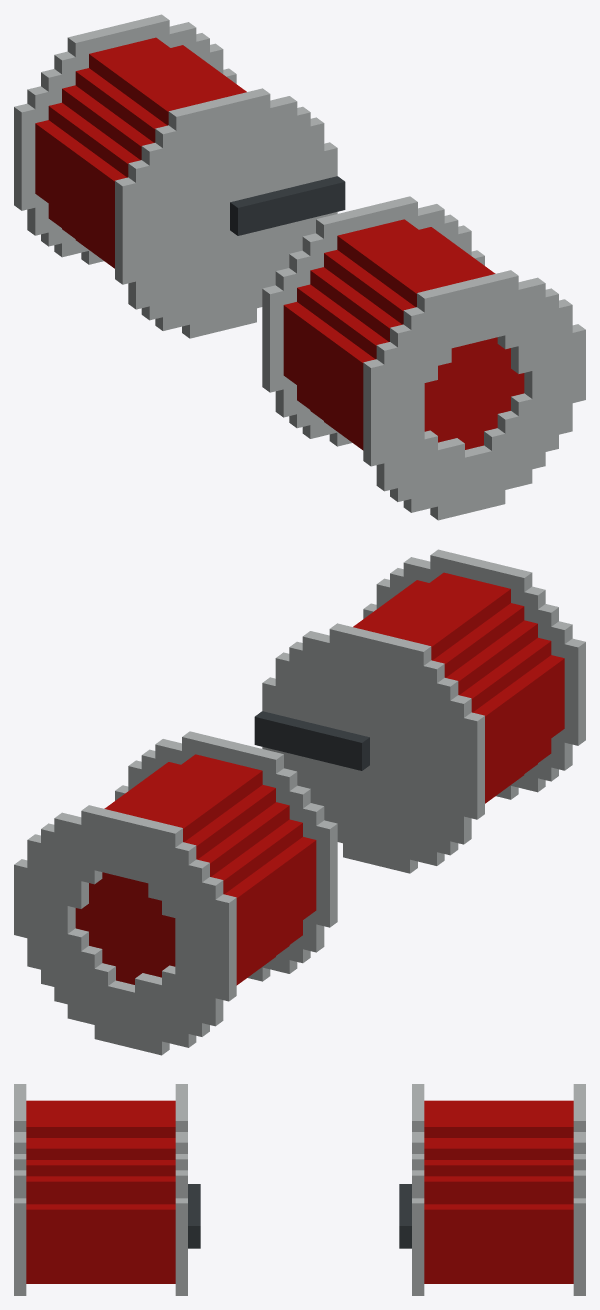
Rendered from fire_engine_hose_reel.glb.
3 renders of one model, top to bottom at view 1: azimuth 30°, elevation 25°; view 2: azimuth 150°, elevation 25°; view 3: azimuth 270°, elevation 25°, orthographic. The views are drawn at different scales.
Parts seen in each view (by area): view 1: body:compound; view 2: body:compound; view 3: body:compound.
Part boxes in pixels (box(x1,y1,x2,y2)): body:compound: box(14, 14, 585, 520); body:compound: box(14, 549, 585, 1055); body:compound: box(14, 1084, 585, 1295).
Size of the model in its own units: 0.5 by 0.5 by 1.44.
